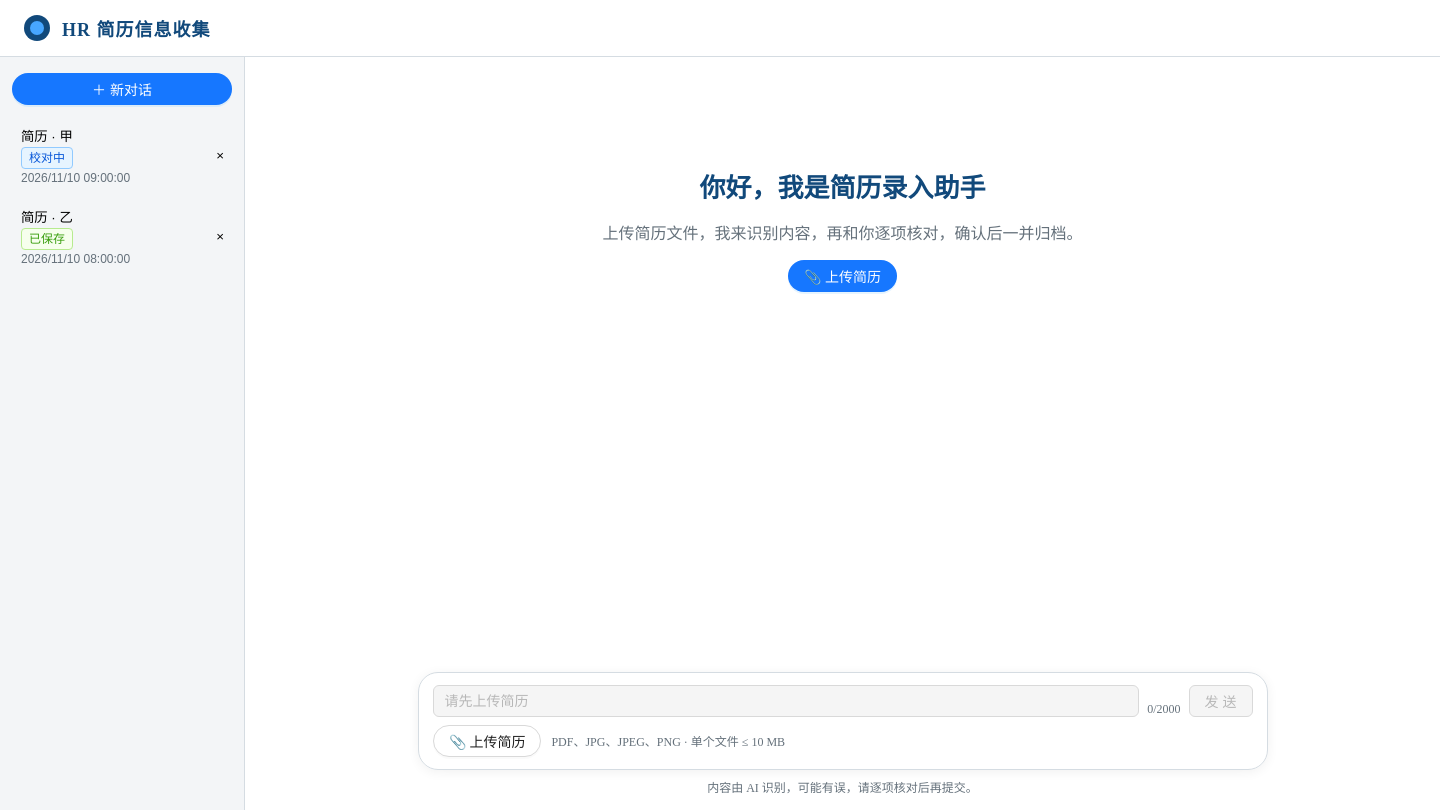
Test: delete (REQ-FE-05.5) › saved: confirmation says only the chat record is deleted; cancel sends nothing
Later steps or results of the test are not shown.
Click the button named "删除会话 简历 · 乙".
click(220, 236)  # box x1=208 y1=198 x2=232 y2=275
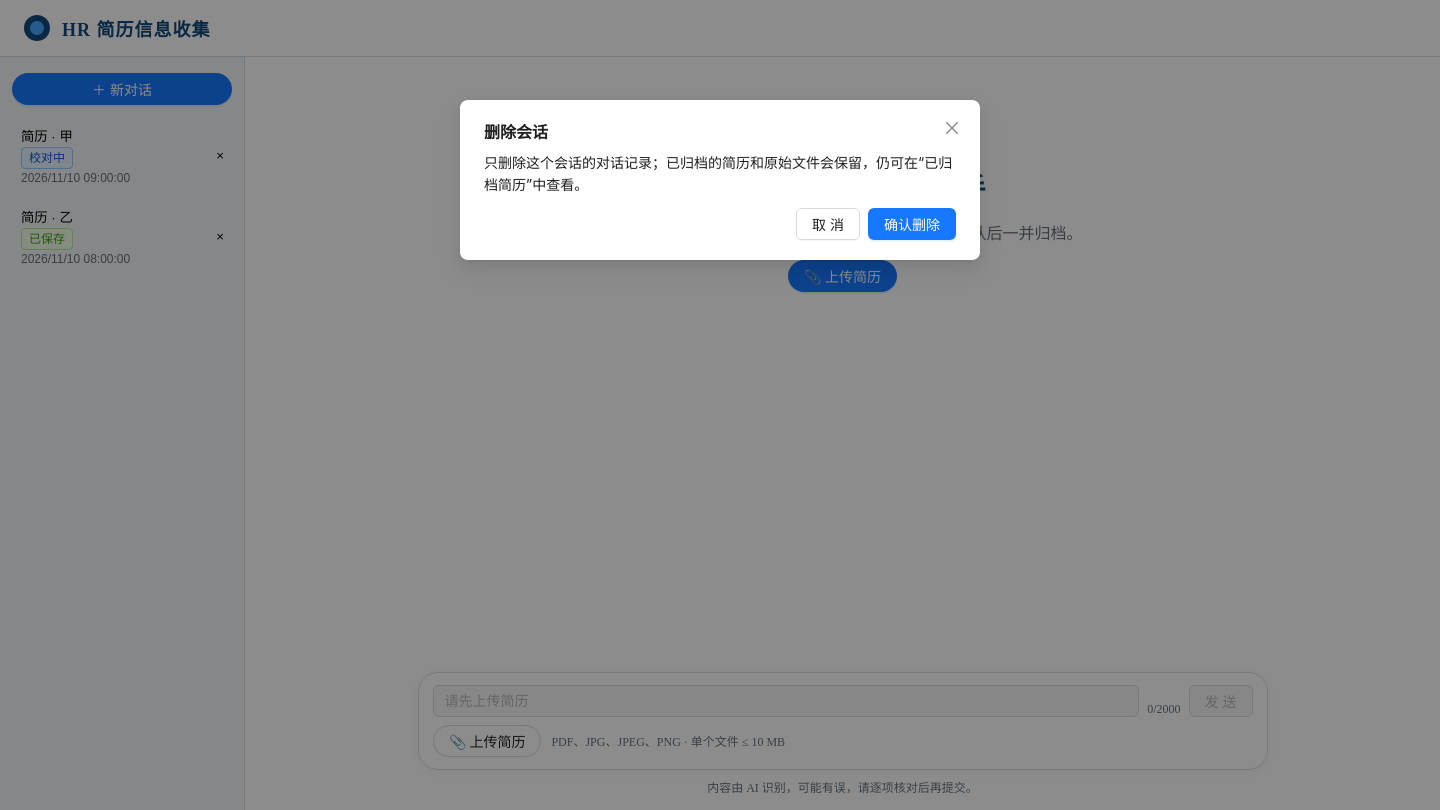
Result: the dialog shows "只删除这个会话的对话记录" at x1=484 y1=154 x2=952 y2=193
